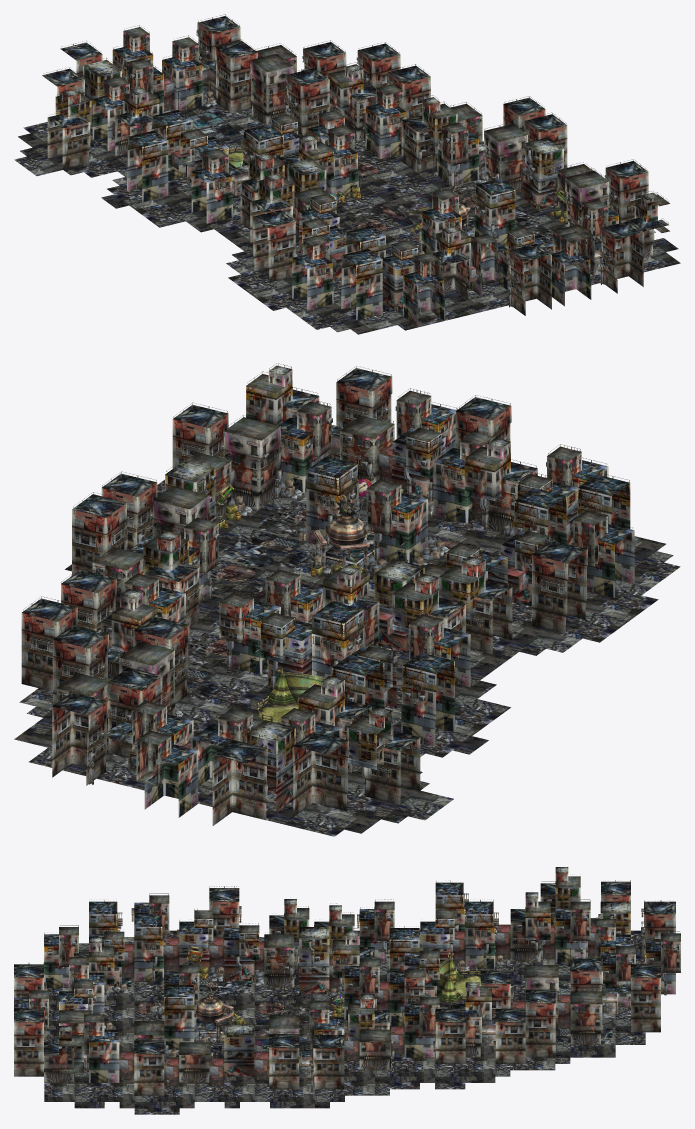
File: town05.obj
3 views of the same model, one above another, from view 1: azimuth 30°, elevation 25°; view 2: azimuth 150°, elevation 25°; view 3: azimuth 270°, elevation 25° (orthographic). The views are drawn at different scales.
Visible parts, largest first — view 1: Buildings, Floor; view 2: Buildings, Floor; view 3: Buildings, Floor.
Part boxes in pixels (x1,y1,x2,y2): Buildings: (42, 14, 669, 326); Floor: (14, 98, 680, 334); Buildings: (21, 363, 634, 825); Floor: (14, 479, 680, 836); Buildings: (14, 867, 680, 1095); Floor: (44, 918, 645, 1114).
Size of what is drawn, in the model's own units: 95.99 by 15.76 by 133.
Materials: 16 (16 with a texture image).
